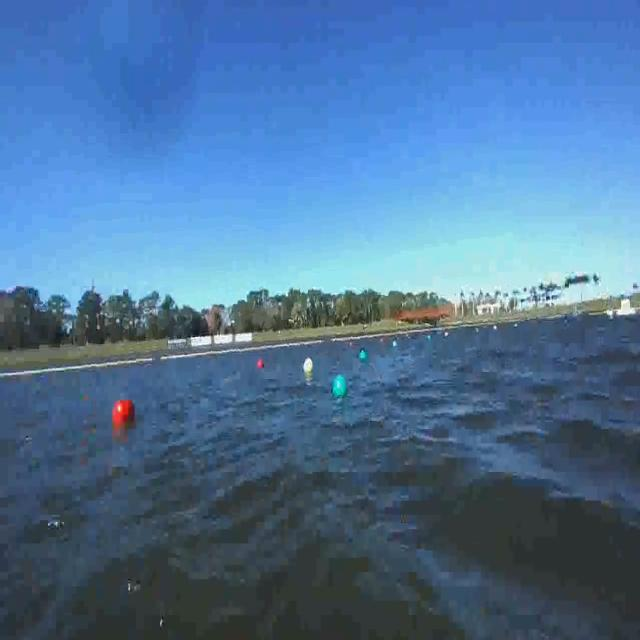green-buoy: (334, 373, 348, 396), (359, 351, 366, 362)
red-buoy: (112, 400, 138, 430), (256, 359, 264, 369)
yellow-buoy: (305, 358, 314, 372)
